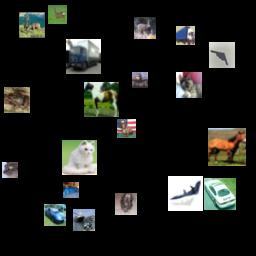airplane: (168, 176, 203, 211), (209, 42, 235, 68), (132, 72, 148, 88)
automobile: (204, 178, 236, 210), (44, 204, 66, 226), (63, 182, 79, 198)
cat: (62, 140, 97, 175), (176, 72, 202, 98), (2, 162, 18, 178)
deer: (19, 12, 45, 38), (134, 17, 156, 39), (48, 5, 67, 24)
dog: (115, 193, 137, 215), (117, 119, 136, 138)
frog: (4, 87, 30, 113)
ship: (73, 209, 95, 231)
truck: (66, 39, 101, 74), (176, 26, 195, 45)
